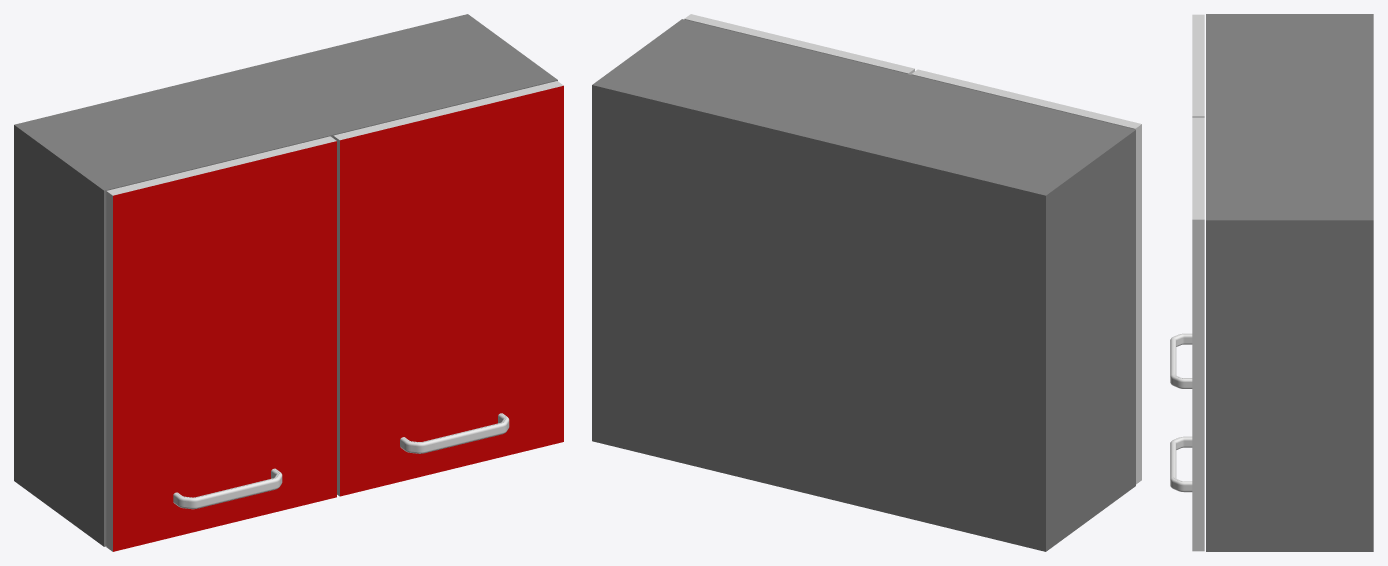
Rendered from Upper_cabinet_12.glb.
3 renders of one model, left to right at view 1: azimuth 30°, elevation 25°; view 2: azimuth 150°, elevation 25°; view 3: azimuth 270°, elevation 25°, orthographic. The views are drawn at different scales.
Visible parts, largest first — view 1: Object_3, Object_2, Object_4, Object_5; view 2: Object_2, Object_4; view 3: Object_2, Object_4, Object_5.
Boxes of the visible parts, x1,y1,x2,y2 form: Object_3: (113,85,563,551); Object_2: (14,14,557,546); Object_4: (106,81,563,551); Object_5: (173,413,509,509); Object_2: (592,19,1135,551); Object_4: (684,14,1141,484); Object_2: (1206,14,1373,551); Object_4: (1192,14,1204,551); Object_5: (1170,333,1192,492).
Bounding box in the file's own units: 80 × 60 × 33.38.
